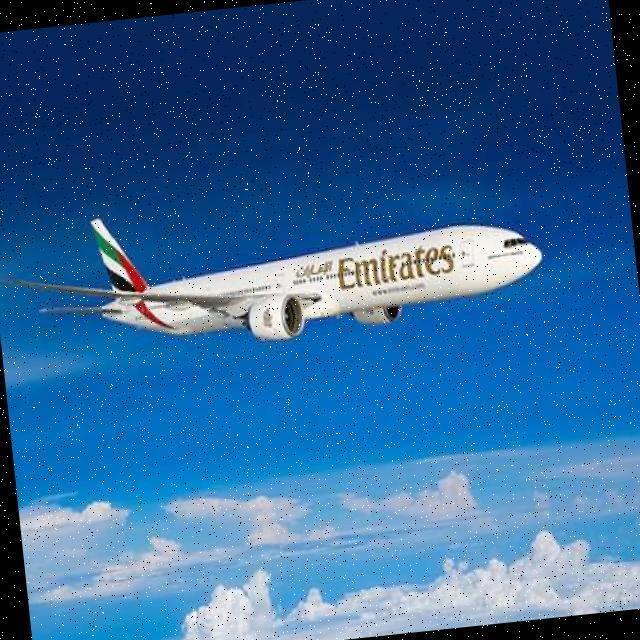Emirates: (337, 244, 456, 290)
